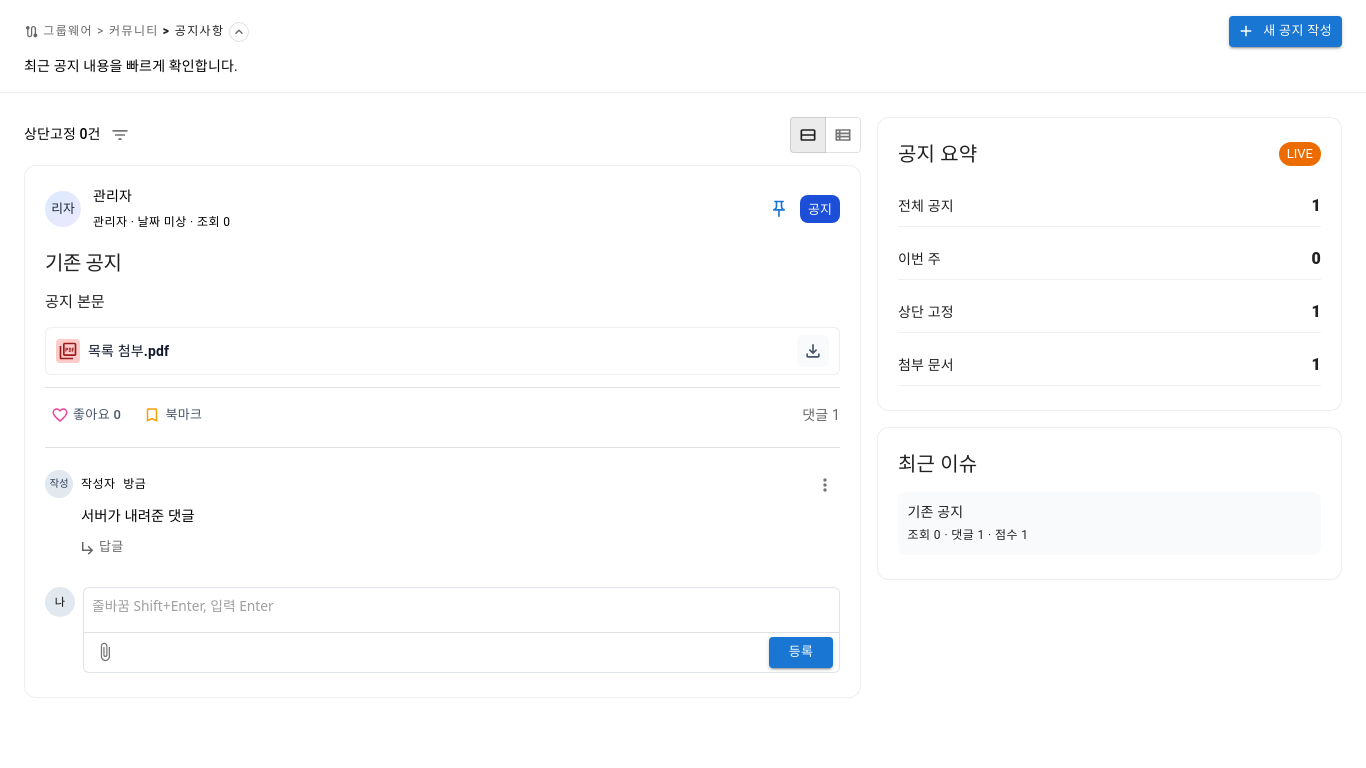
Scenario: CommunityNoticePage local updates › reloads notices and switches to the selected list view
Check: the button "기존 공지" is shown, box [45,251,122,275]
Click the button named "리스트형 보기": (843, 135) [825,117,861,153]
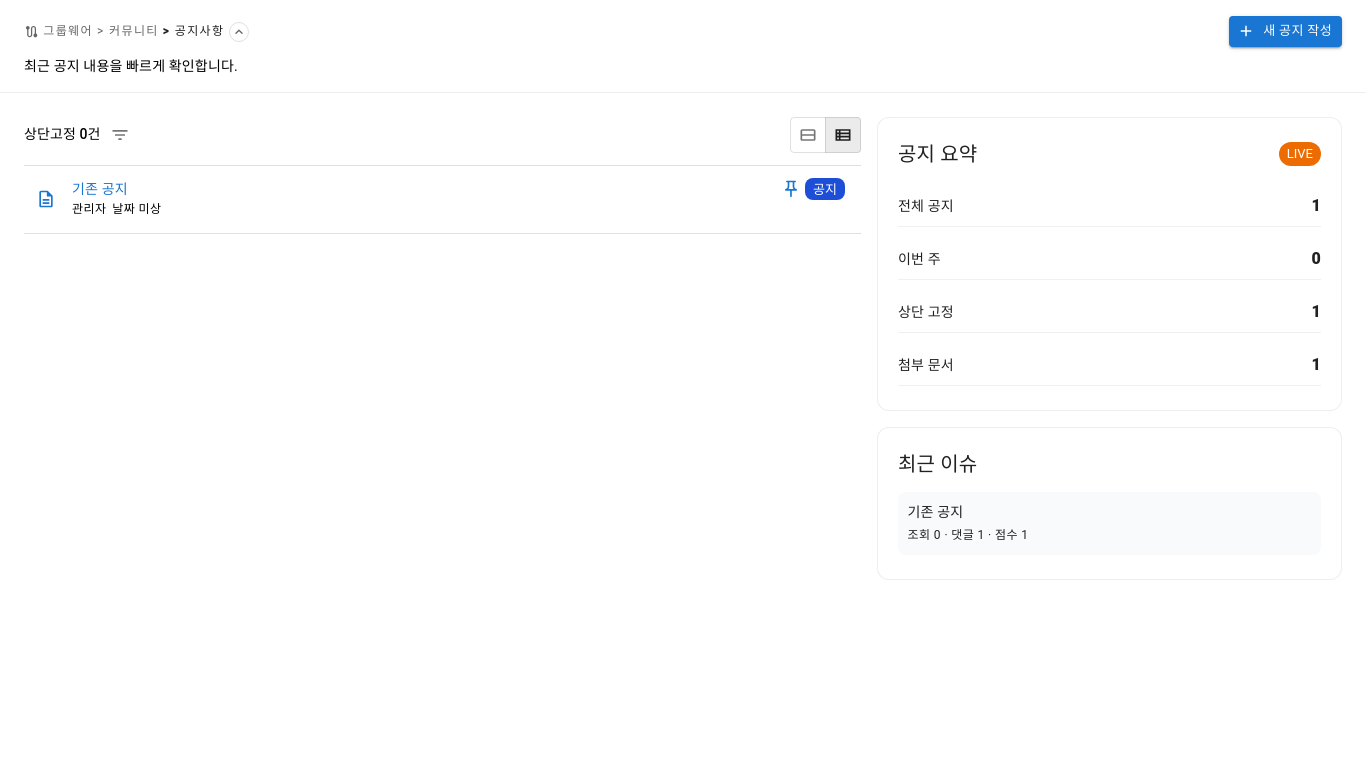
Check: the text "기존 공지" below "상단고정" is shown, box [72,182,128,198]
Check: the element named "리스트형 공지 목록" is shown, box [24,165,861,234]
